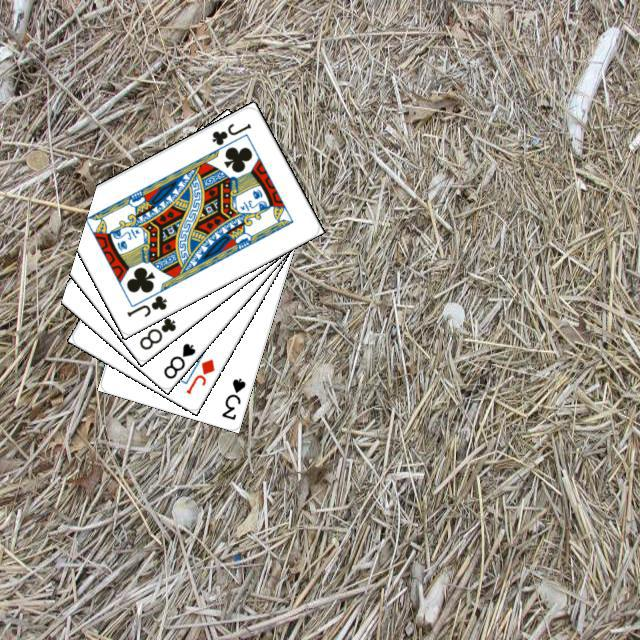3s: (217, 373, 247, 422)
8c: (134, 313, 178, 352)
8s: (158, 338, 197, 381)
Jc: (122, 290, 169, 319), (207, 118, 253, 147)
Jd: (180, 354, 217, 396)
